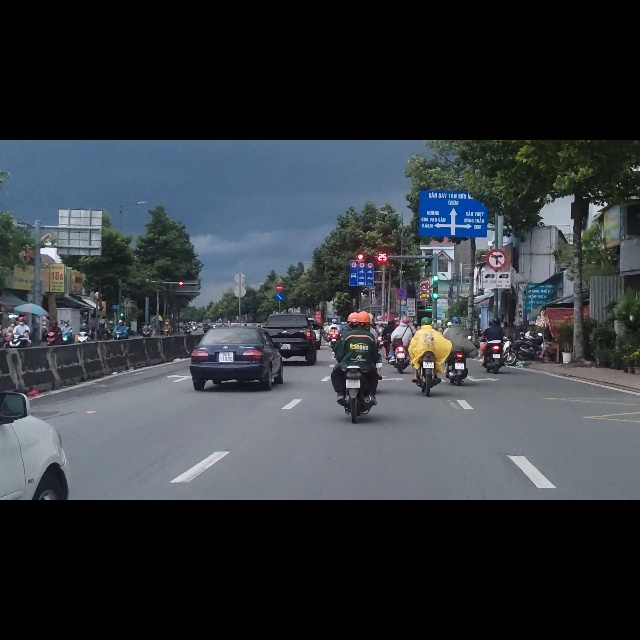bien_hieu_lenh: (486, 194, 507, 231), (349, 228, 373, 260), (396, 264, 406, 281), (275, 254, 284, 269), (275, 271, 284, 286), (359, 217, 365, 228), (367, 217, 373, 228), (351, 216, 357, 226)
